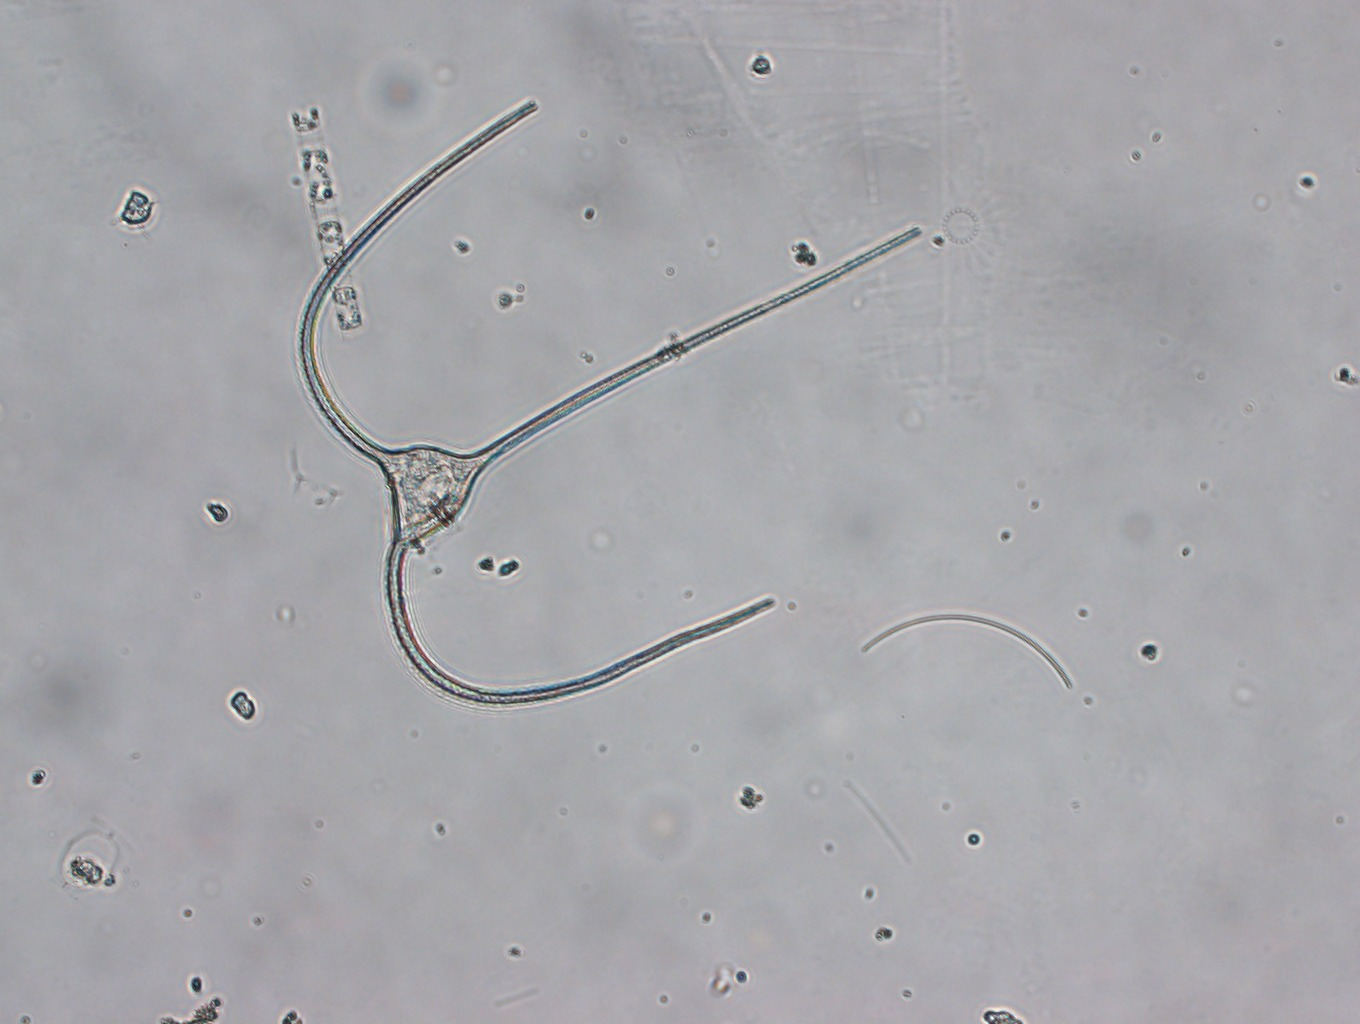ceratium trichoceros: (295, 95, 922, 712)
skeletonema: (287, 103, 366, 344)
